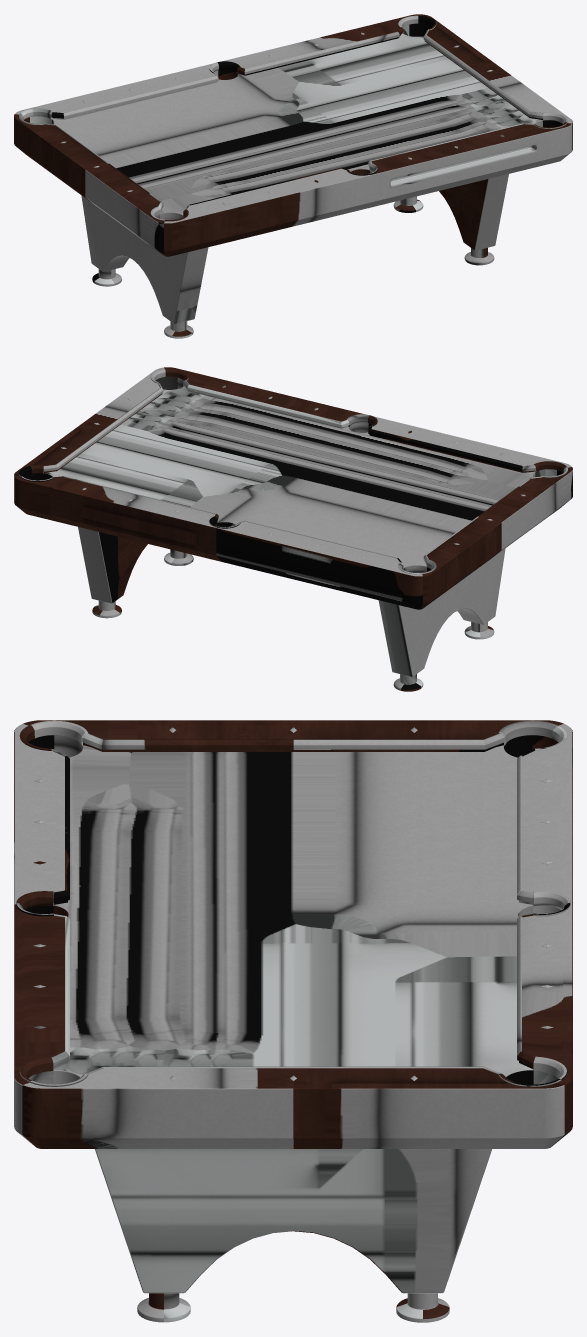
Rendered from pool table.fbx.
The picture shows the model from 3 angles, top to bottom: view 1: azimuth 30°, elevation 25°; view 2: azimuth 150°, elevation 25°; view 3: azimuth 270°, elevation 25°; orthographic projection. The views are drawn at different scales.
Parts seen in each view (by area): view 1: table; view 2: table; view 3: table.
Boxes of the visible parts, box(x1,y1,x2,y2) form: table: box(14, 14, 572, 338); table: box(14, 367, 572, 691); table: box(14, 720, 572, 1322).
Bounding box in the file's own units: 250 × 86.92 × 160.
